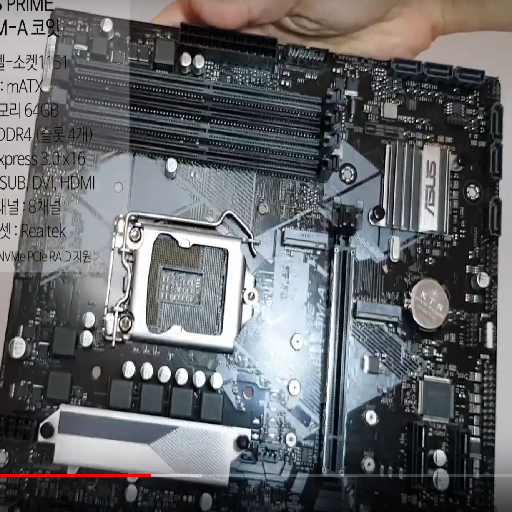CPU: (100, 214, 255, 352)
GPU: (316, 196, 365, 486)
MOTHERBOARD: (1, 12, 501, 510)
RAM: (48, 43, 347, 185)
SSD: (279, 227, 328, 255), (353, 299, 403, 325)
